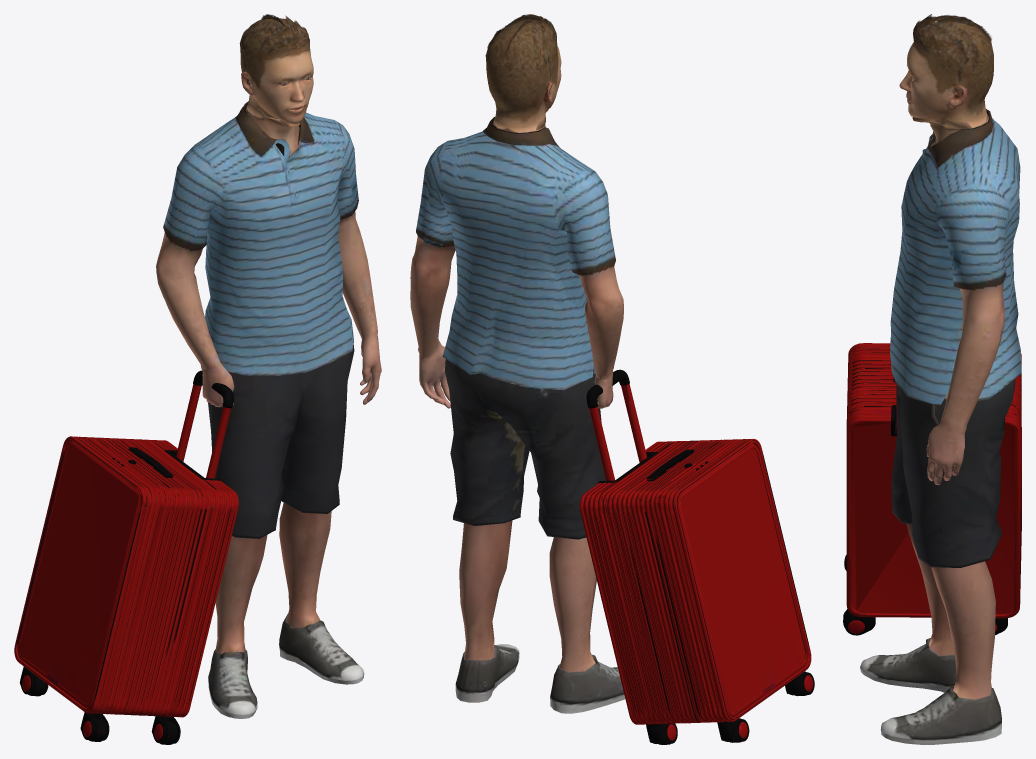
3 renders of one model, left to right at view 1: azimuth 30°, elevation 25°; view 2: azimuth 150°, elevation 25°; view 3: azimuth 270°, elevation 25°, orthographic. The views are drawn at different scales.
Visible parts, largest first — view 1: suitcase202610_w007, suitcase202610_w007_props; view 2: suitcase202610_w007, suitcase202610_w007_props; view 3: suitcase202610_w007, suitcase202610_w007_props.
Part boxes in pixels (x1,y1,x2,y2): suitcase202610_w007: (156,14,381,718); suitcase202610_w007_props: (14,370,238,744); suitcase202610_w007: (410,14,625,713); suitcase202610_w007_props: (579,369,814,744); suitcase202610_w007: (860,14,1021,744); suitcase202610_w007_props: (843,343,1021,635).
Size of the model in its own units: 0.9003 by 1.68 by 0.391.
2 materials, 2 textured.
